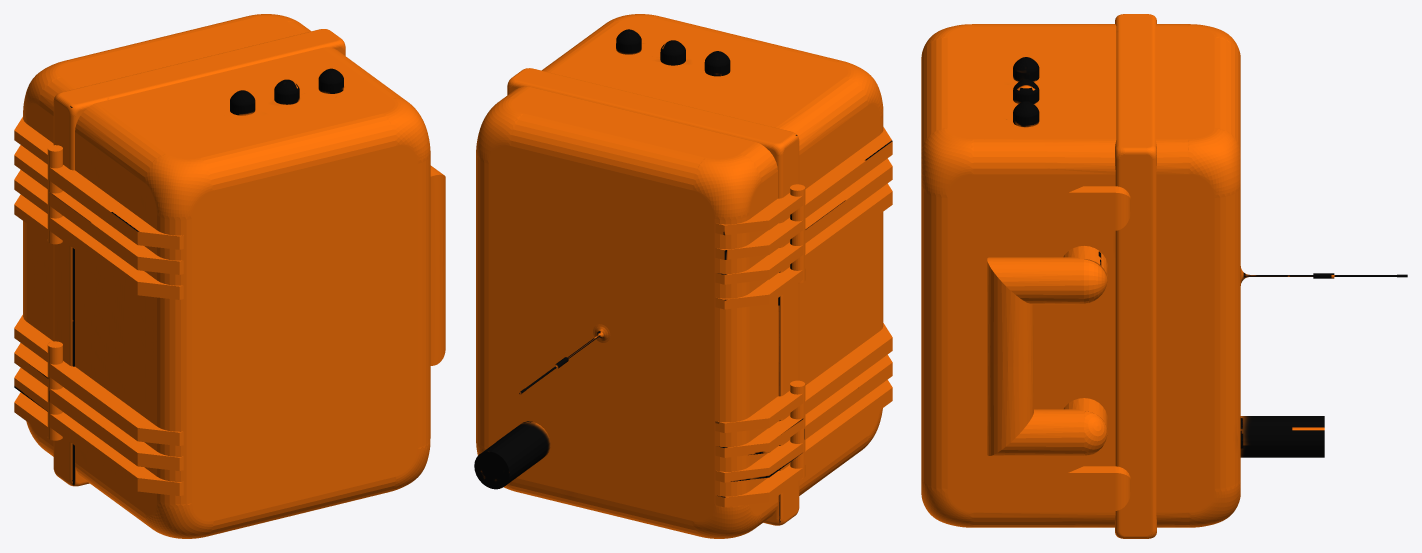
Rendered from brain_box.dae.
3 views of the same model, side by side, from view 1: azimuth 30°, elevation 25°; view 2: azimuth 150°, elevation 25°; view 3: azimuth 270°, elevation 25° (orthographic). The views are drawn at different scales.
Visible parts, largest first — view 1: brain_box_v2; view 2: brain_box_v2; view 3: brain_box_v2.
Boxes of the visible parts, bbox=[...] form: brain_box_v2: bbox=[14, 14, 445, 538]; brain_box_v2: bbox=[474, 14, 892, 538]; brain_box_v2: bbox=[921, 14, 1407, 538].
Size of the model in its own units: 0.3754 by 0.464 by 0.4298.
Materials: 1 (1 with a texture image).
